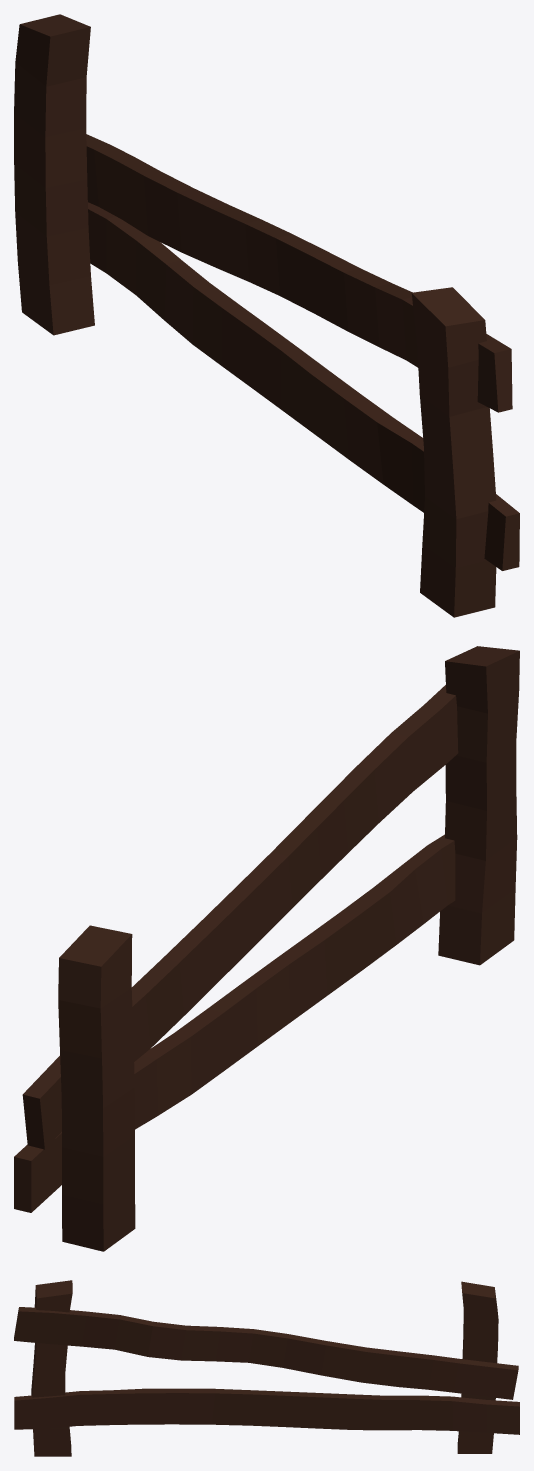
Rendered from Fence02.fbx.
The picture shows the model from 3 angles, top to bottom: view 1: azimuth 30°, elevation 25°; view 2: azimuth 150°, elevation 25°; view 3: azimuth 270°, elevation 25°; orthographic projection. The views are drawn at different scales.
Parts seen in each view (by area): view 1: Fence02; view 2: Fence02; view 3: Fence02.
Part boxes in pixels (box(x1,y1,x2,y2)): Fence02: box(14, 14, 519, 617); Fence02: box(14, 646, 519, 1251); Fence02: box(14, 1280, 519, 1456).
Bounding box in the file's own units: 250 × 1044 × 2924.
